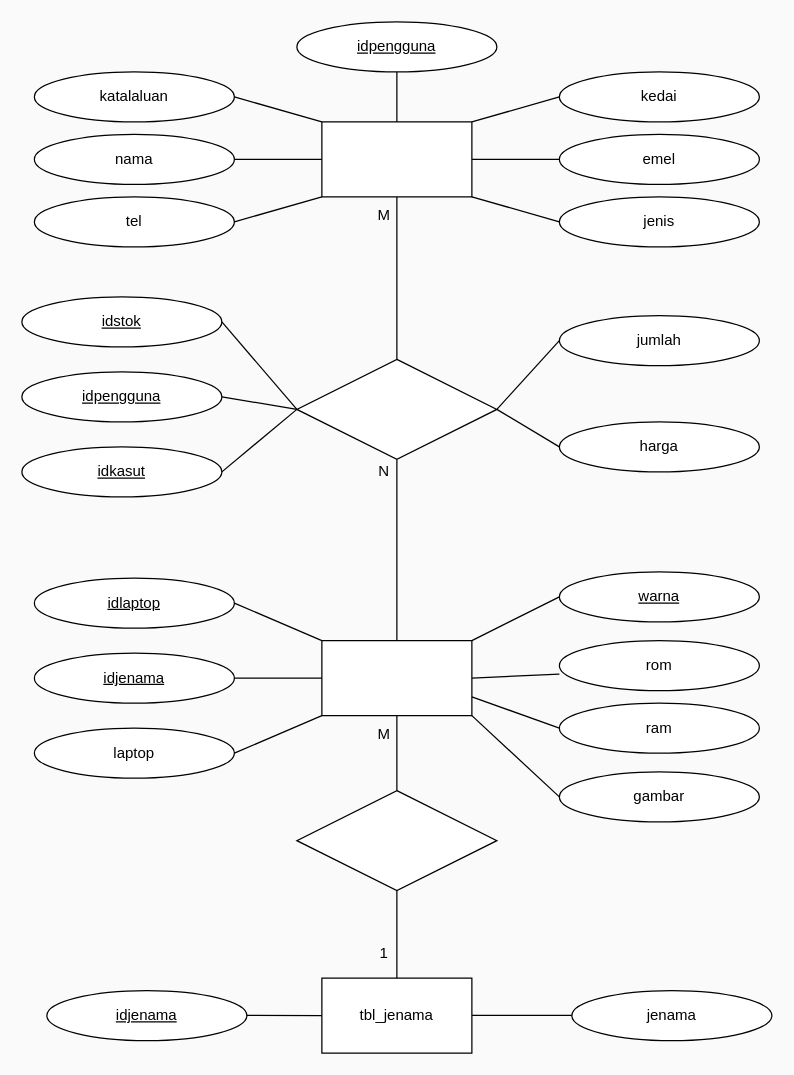
This 794x1075 diagram has some shape labels left out. Each missing label, with the centre of its shape:
"berjenama" belongs at point 396,840.
"tbl_laptop" belongs at point 396,677.
"tbl_pengguna" belongs at point 396,159.
"tbl_stok" belongs at point 396,408.
